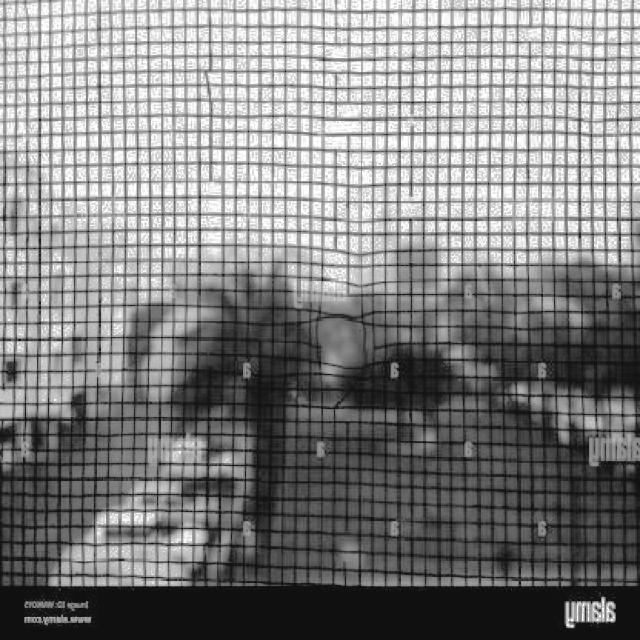anomaly-fence: (309, 294, 395, 422)
